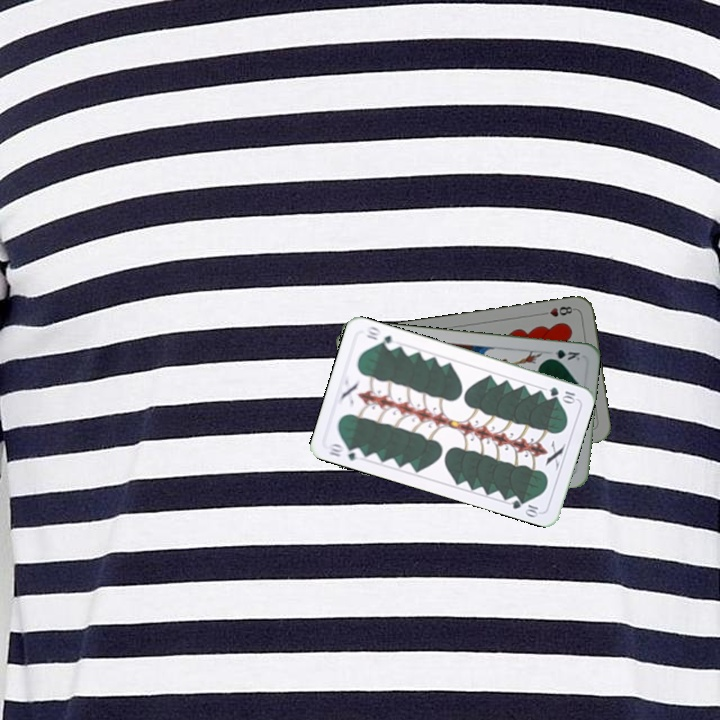G10: (324, 439, 365, 463), (546, 383, 579, 405)
GK: (543, 345, 582, 363)
H8: (537, 302, 578, 319)
